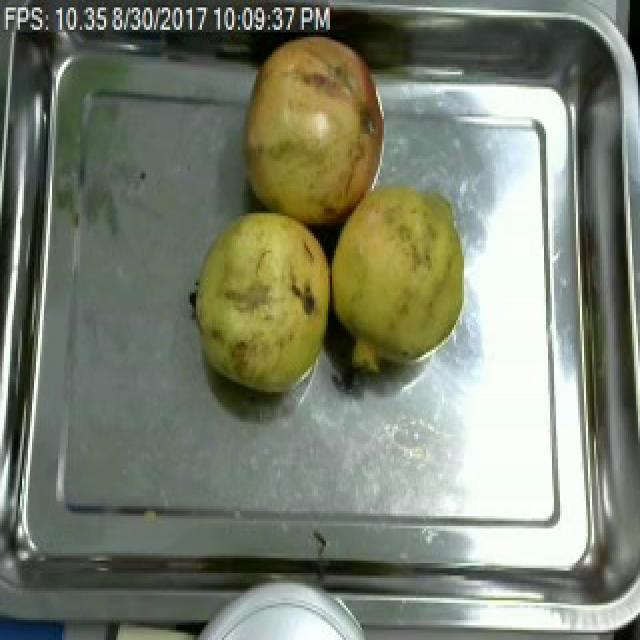fruit: (324, 171, 470, 385), (236, 29, 388, 230), (186, 201, 334, 404)
